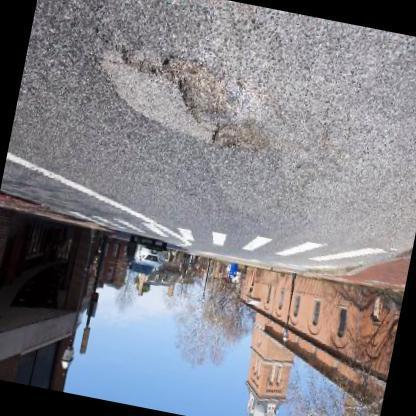pothole: (120, 46, 272, 154)
